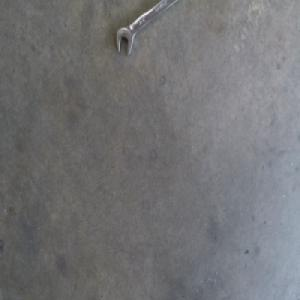Wrench: (116, 0, 174, 54)
